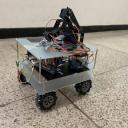cart: (15, 38, 99, 111)
